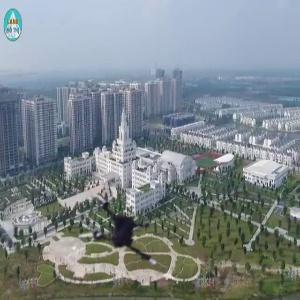drone: (64, 185, 167, 288)
